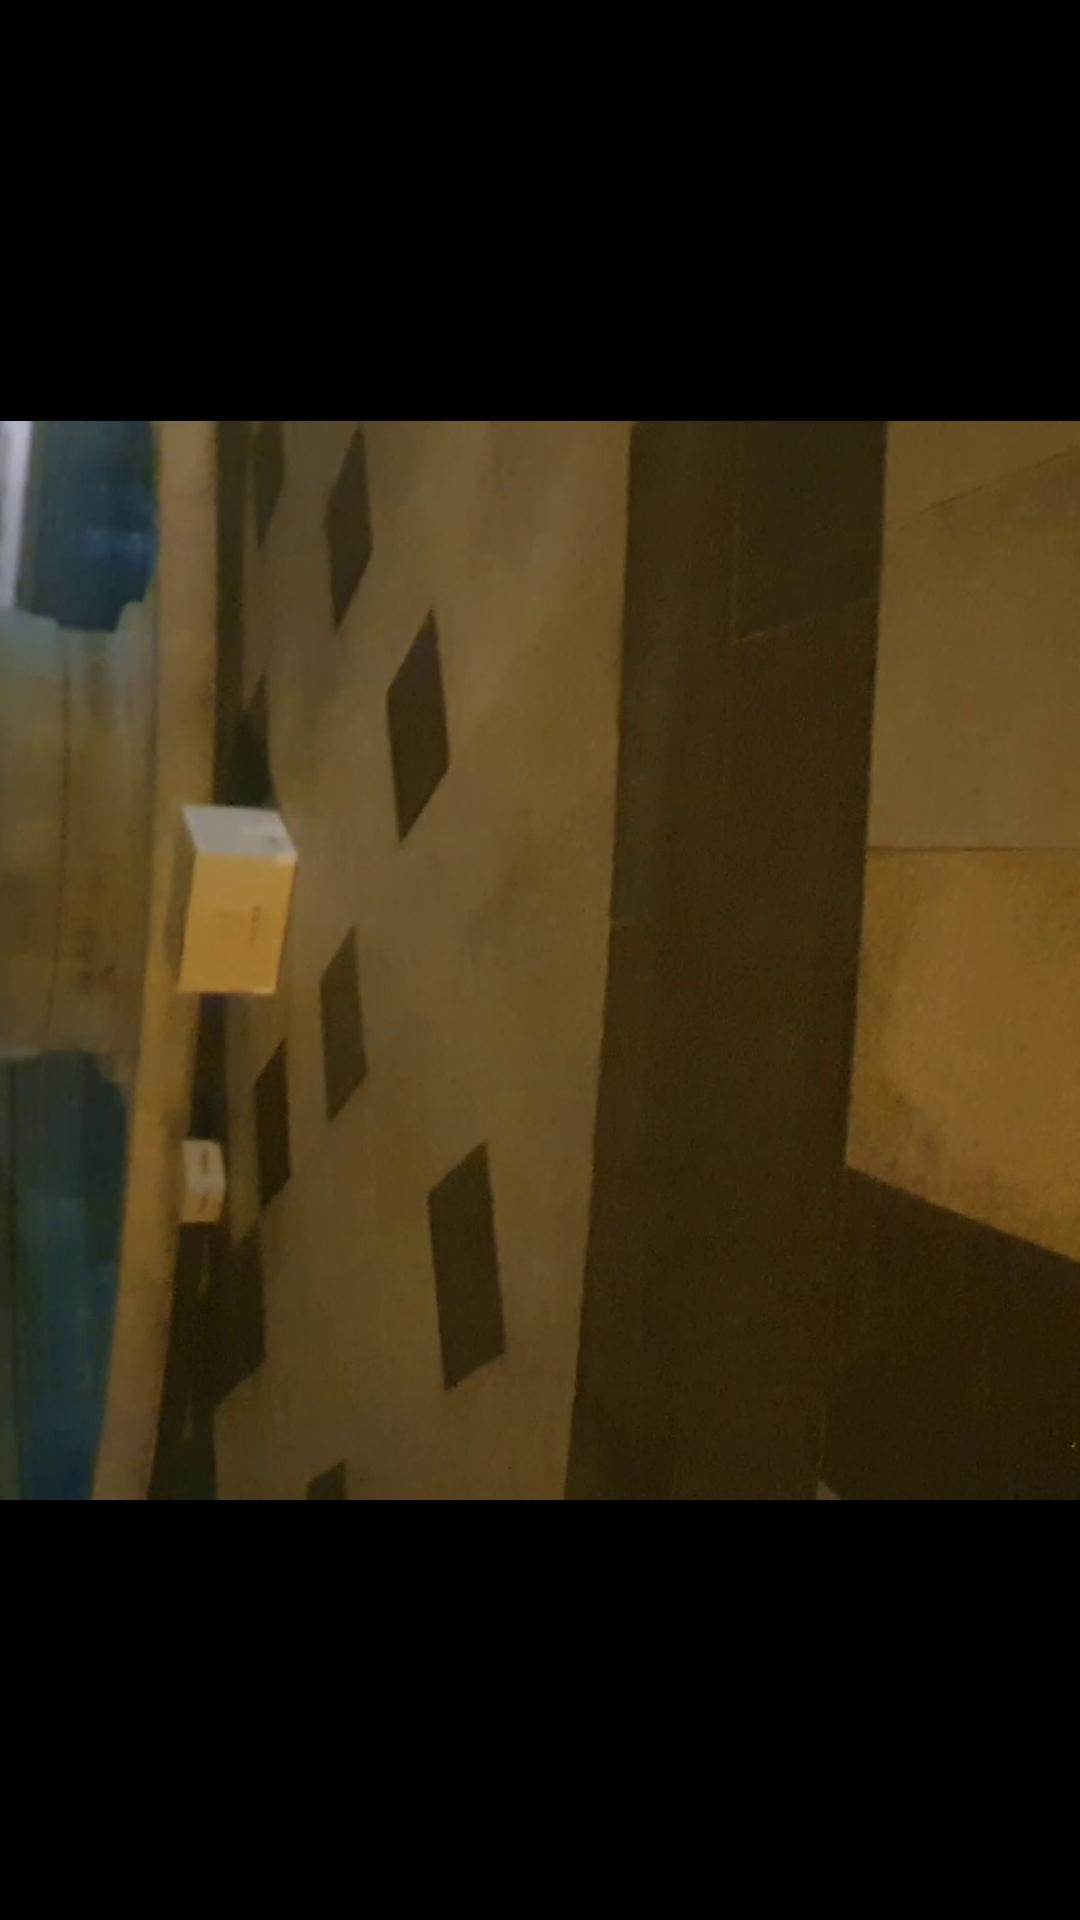Box: (142, 795, 298, 1004), (153, 1135, 225, 1234)
